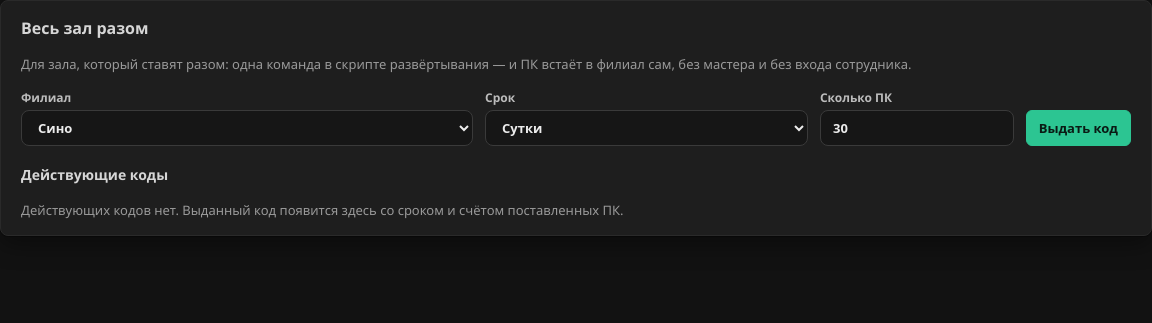
InstallCodesSection › names the reason when the server refuses
The image size is (1152, 323).
Check: the text "Действующих кодов нет." is shown, box [21,201,179,219]
Click the button "Выдать код": [1078, 128] box [1026,110,1131,146]
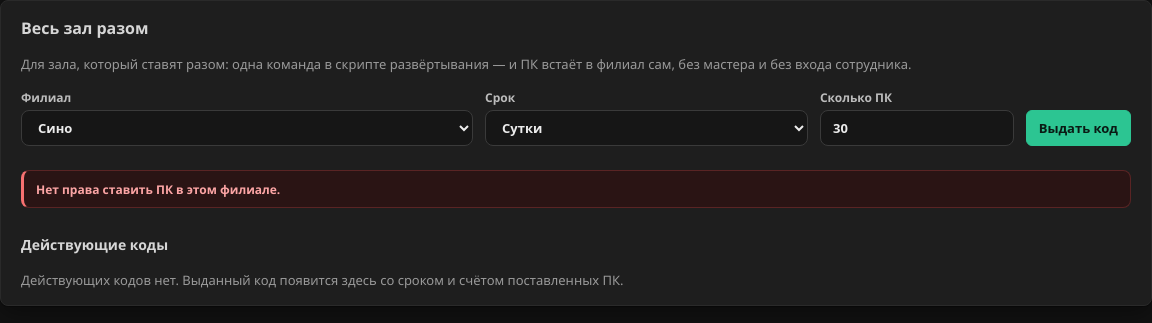
Check: the message "Нет права ставить ПК в этом филиале." is shown, box [21,170,1131,208]
